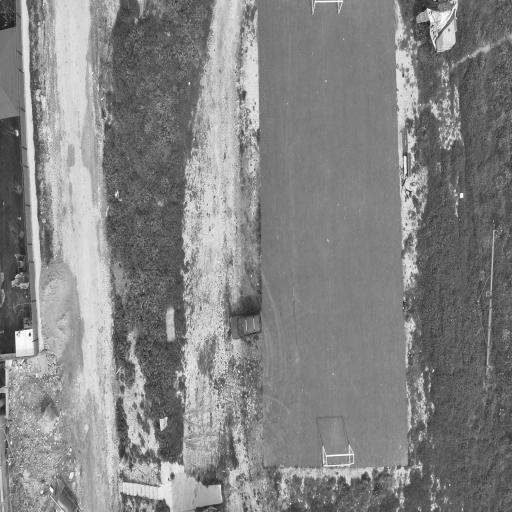car: (230, 309, 262, 338)
